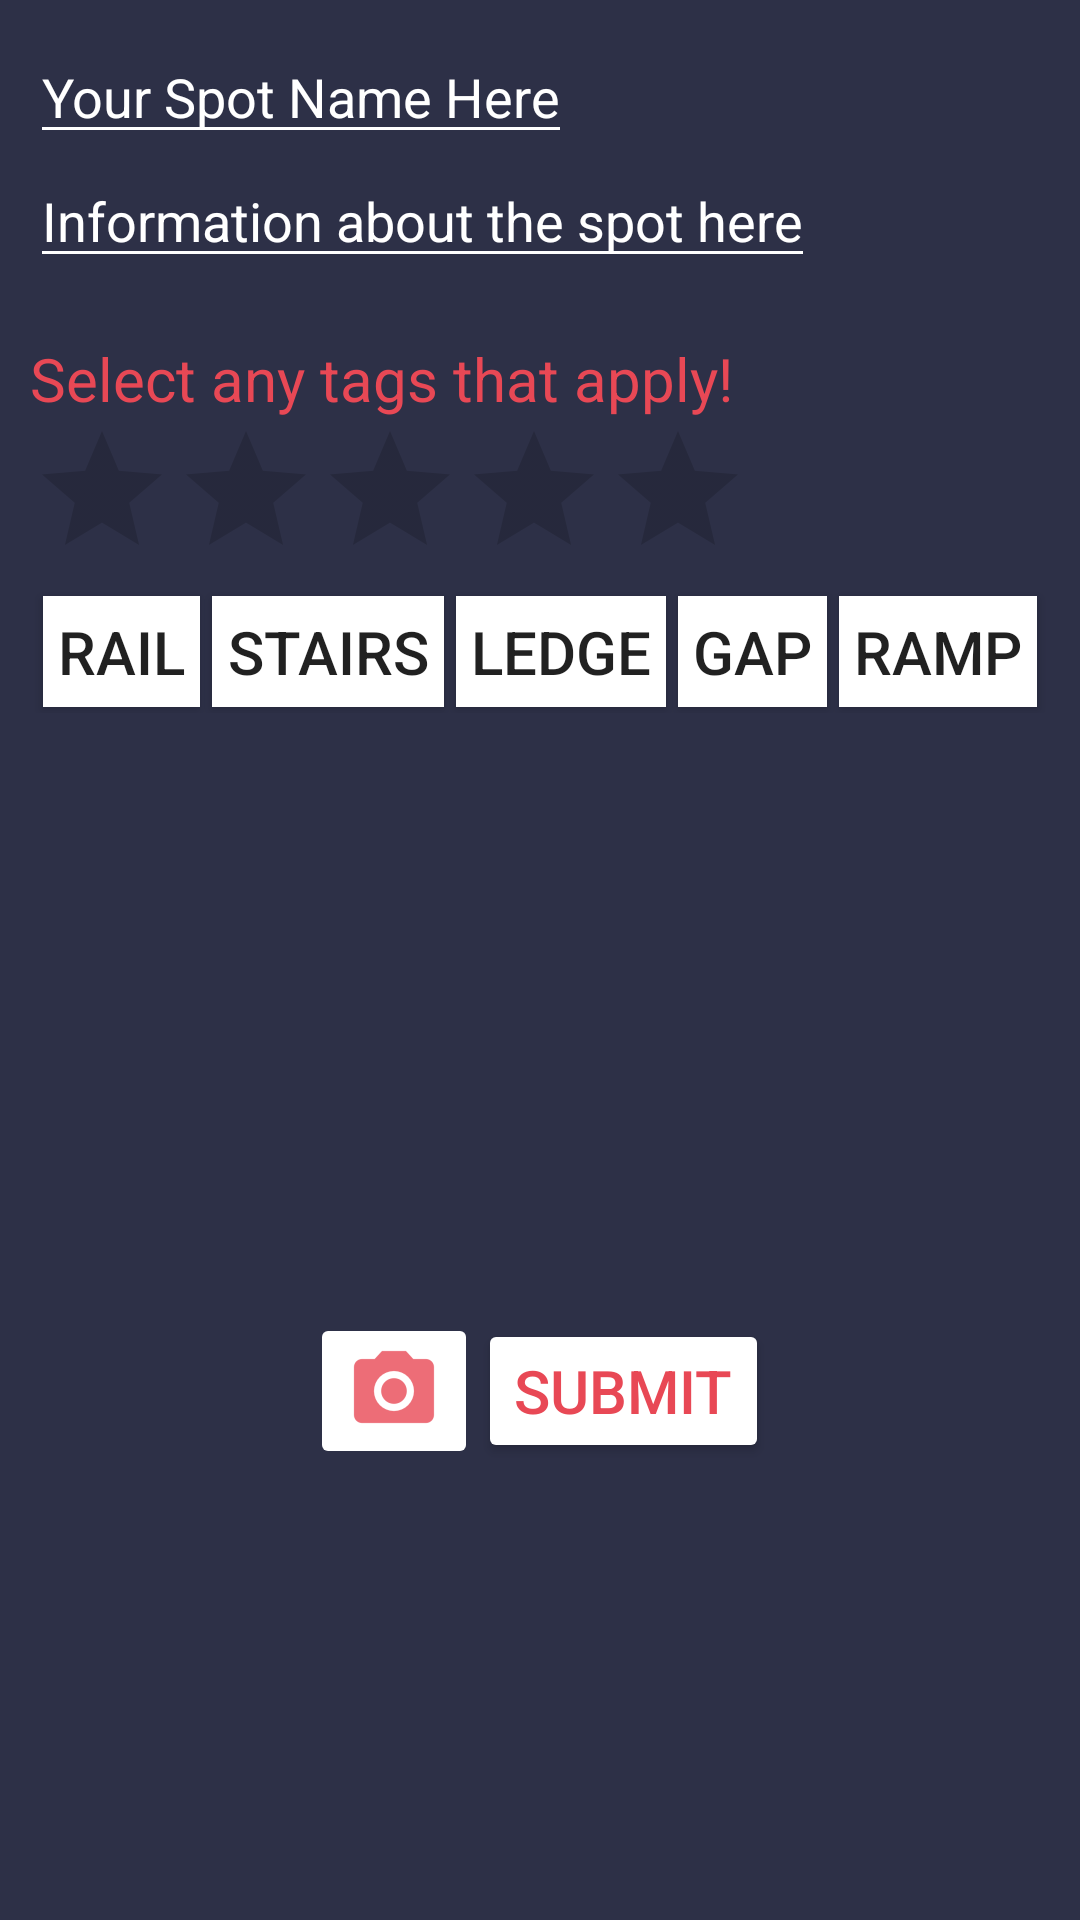

Where icons sit on this 1080×1920 app screen, as (x1, y1, x2, y2):
camera: (322, 1331, 466, 1451)
